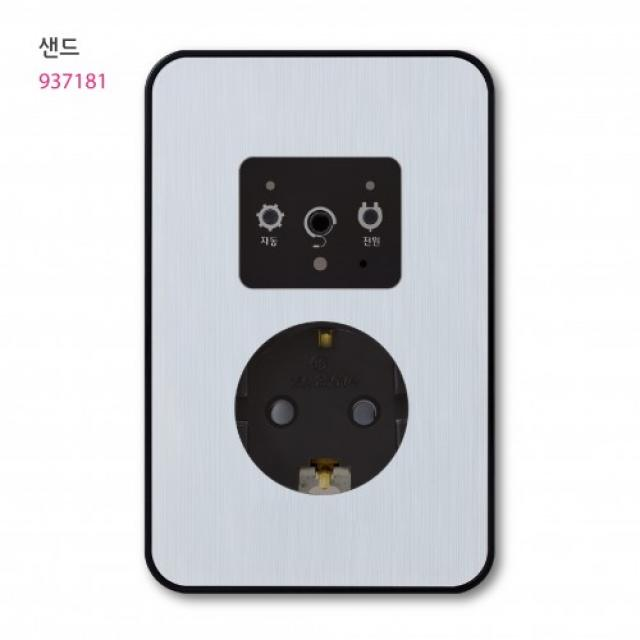typeb: (132, 30, 518, 626)
